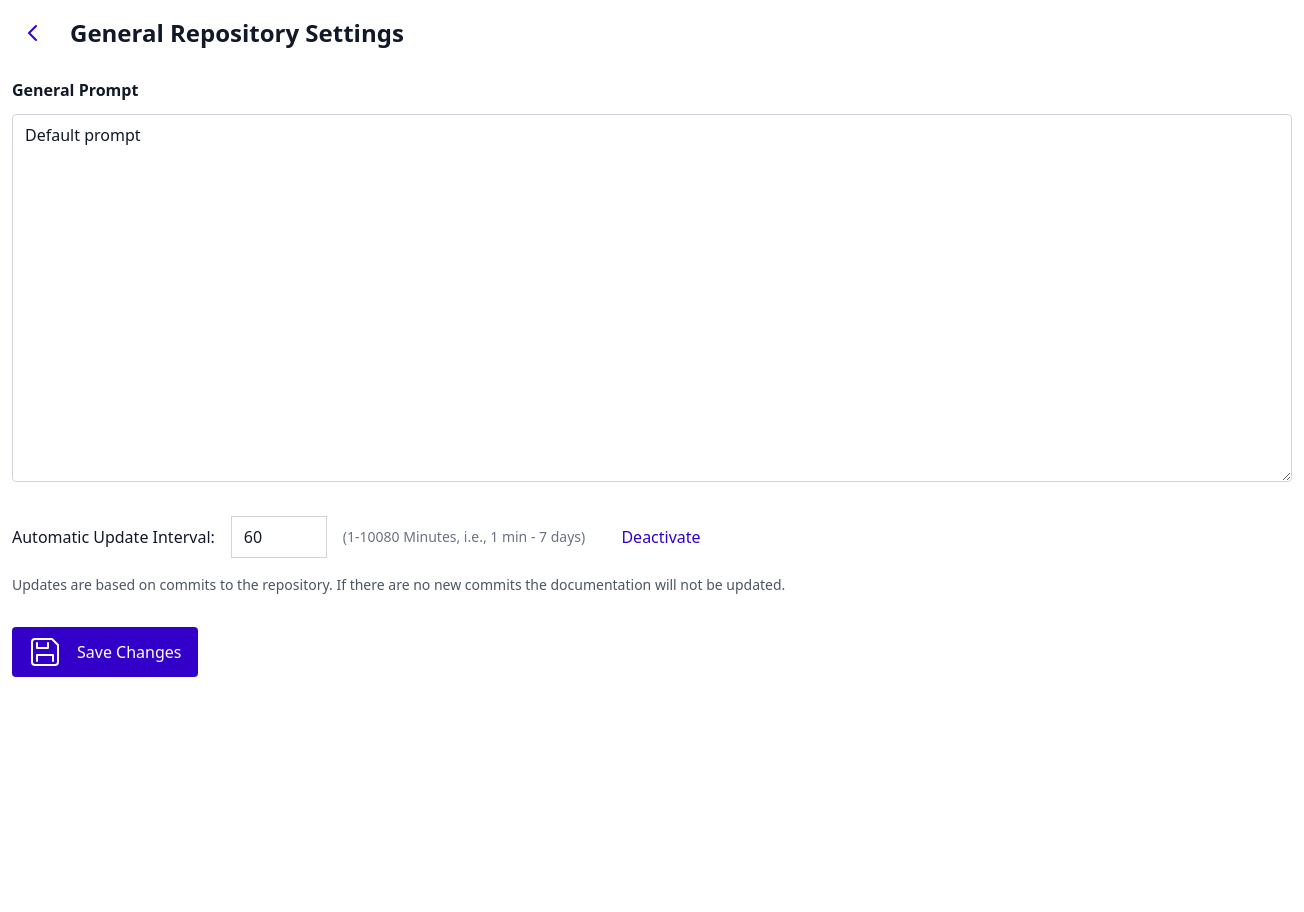
Test: GeneralSetting - unit tests › disables automatic updates when deactivate is clicked
Click the button "Deactivate".
click(661, 537)  # box [601,514,721,559]
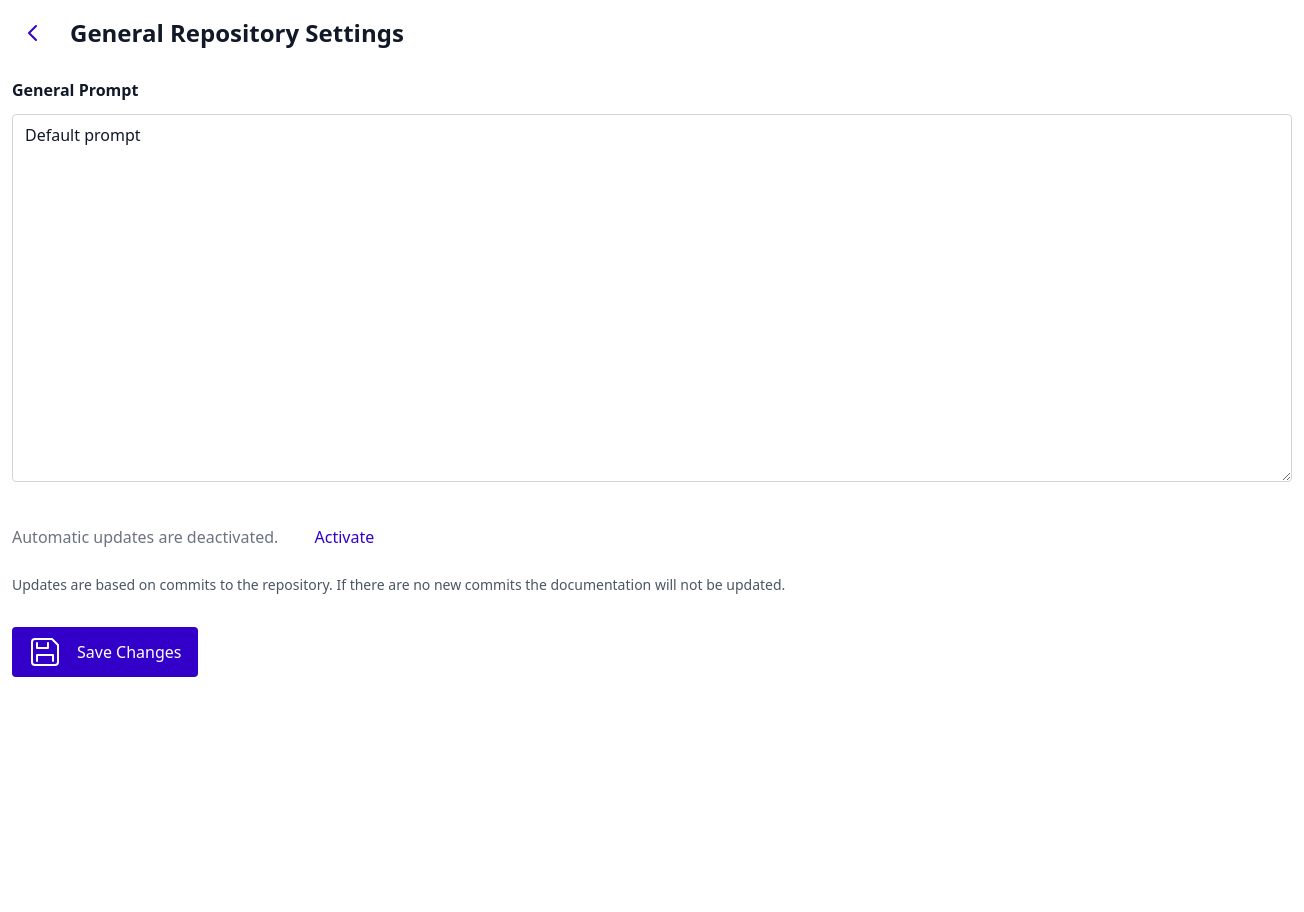
Expected: the button "Activate" is shown, [294,514,394,559]
Expected: the text "Automatic updates are deactivated." is shown, [12,525,278,549]
